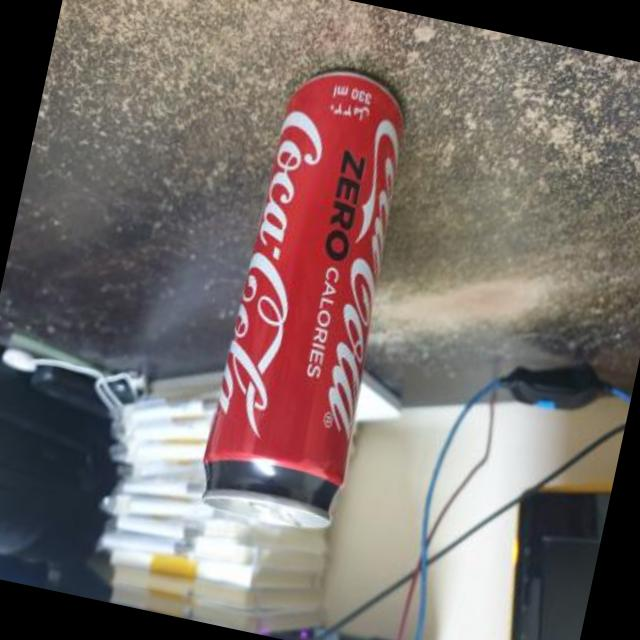metal: (205, 73, 404, 529)
